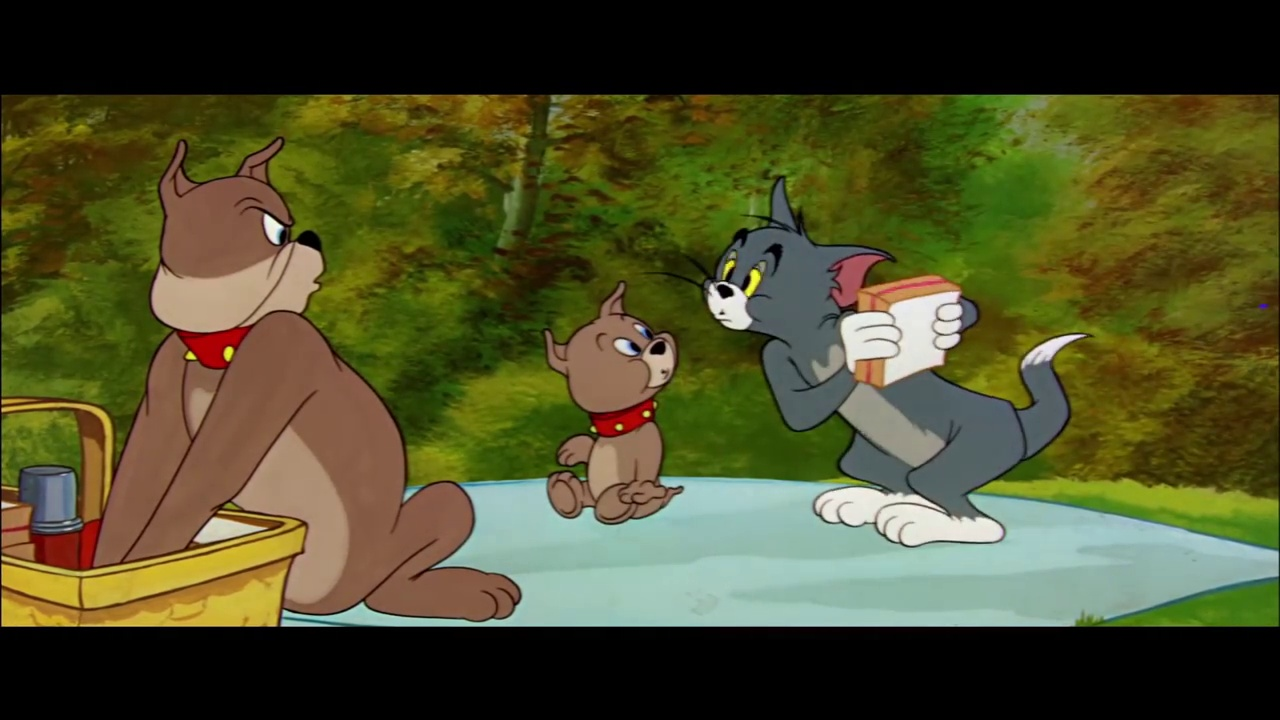spike: (148, 136, 333, 373)
tom: (700, 171, 894, 353)
